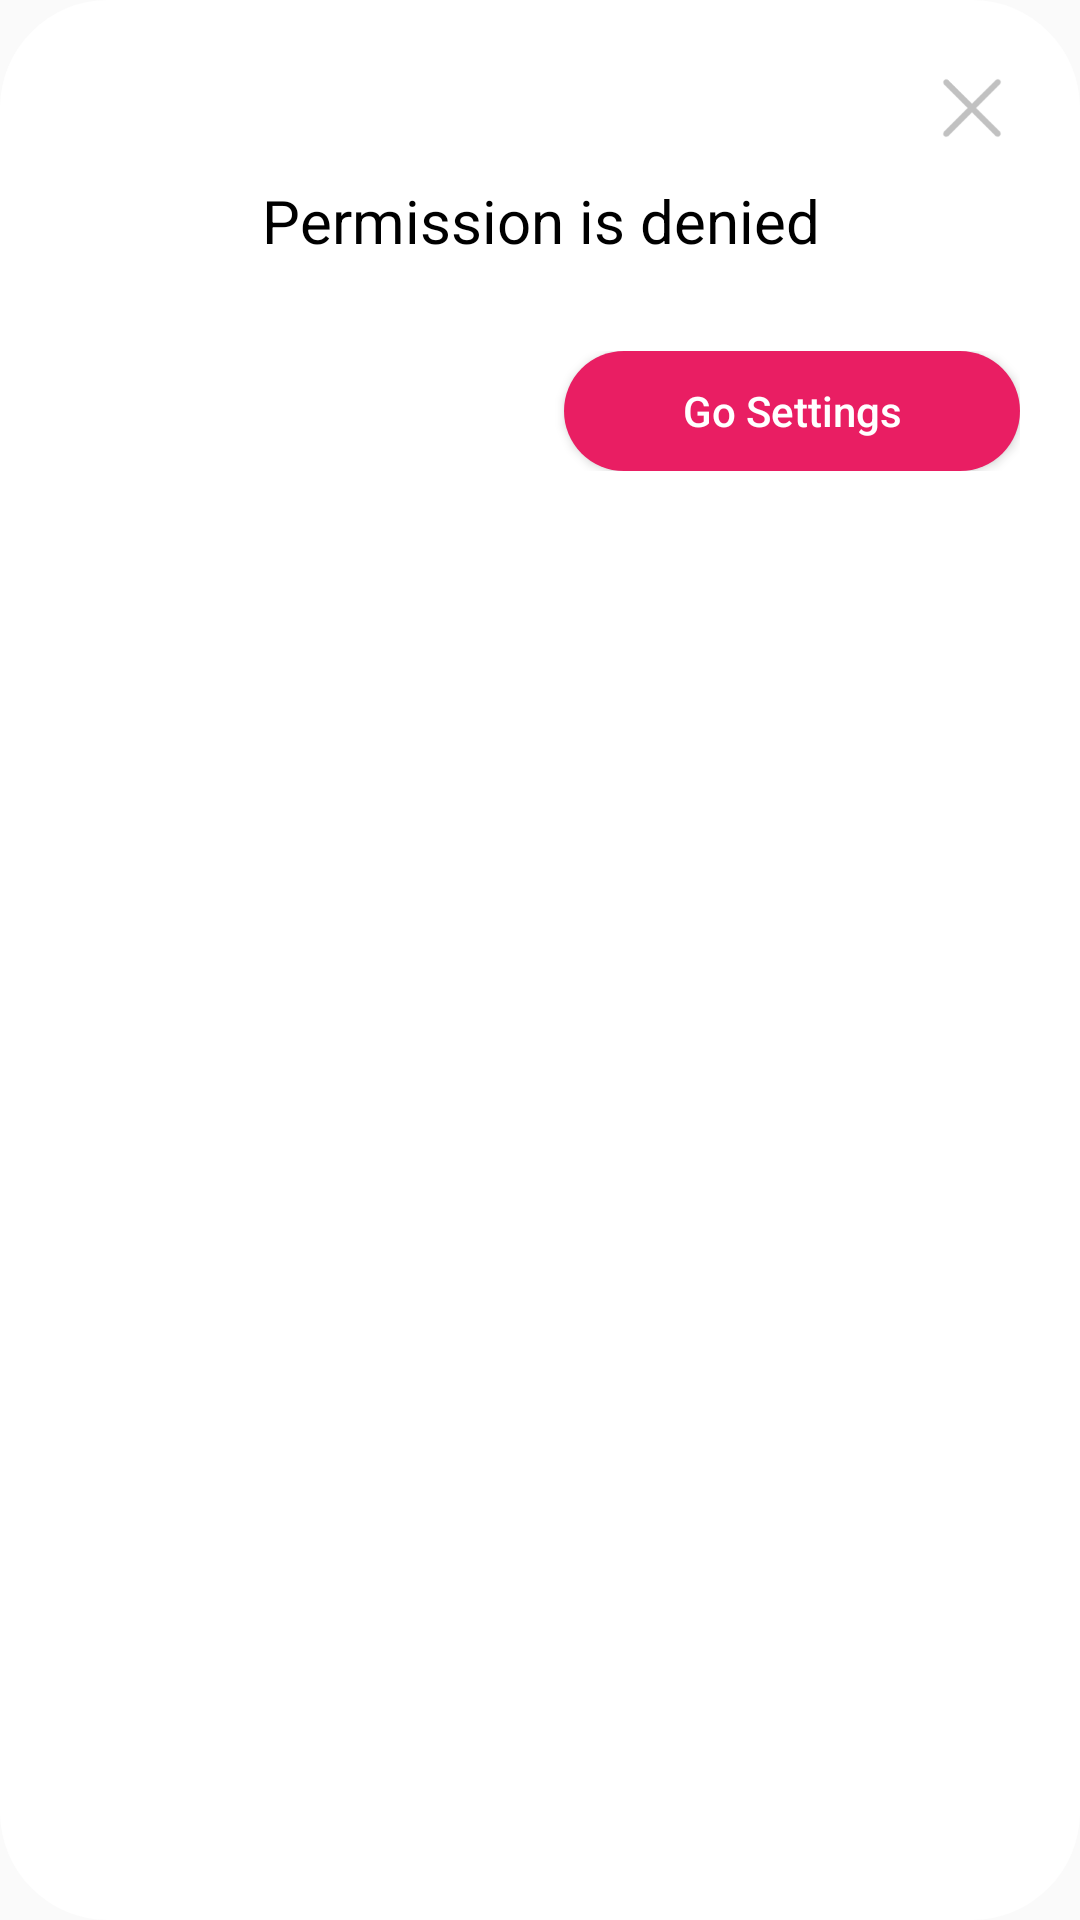

Point at icon controls on the screen. Image size 1080*1920, points as (x=x, y=y).
close: (x=972, y=108)
